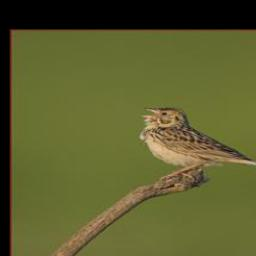Sparrow: (140, 106, 256, 181)
